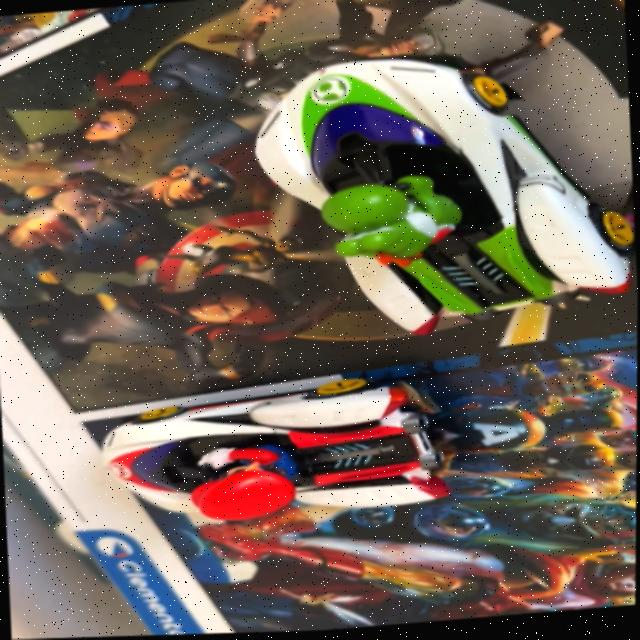mario: (78, 356, 492, 550)
yoshi: (222, 16, 640, 374)
